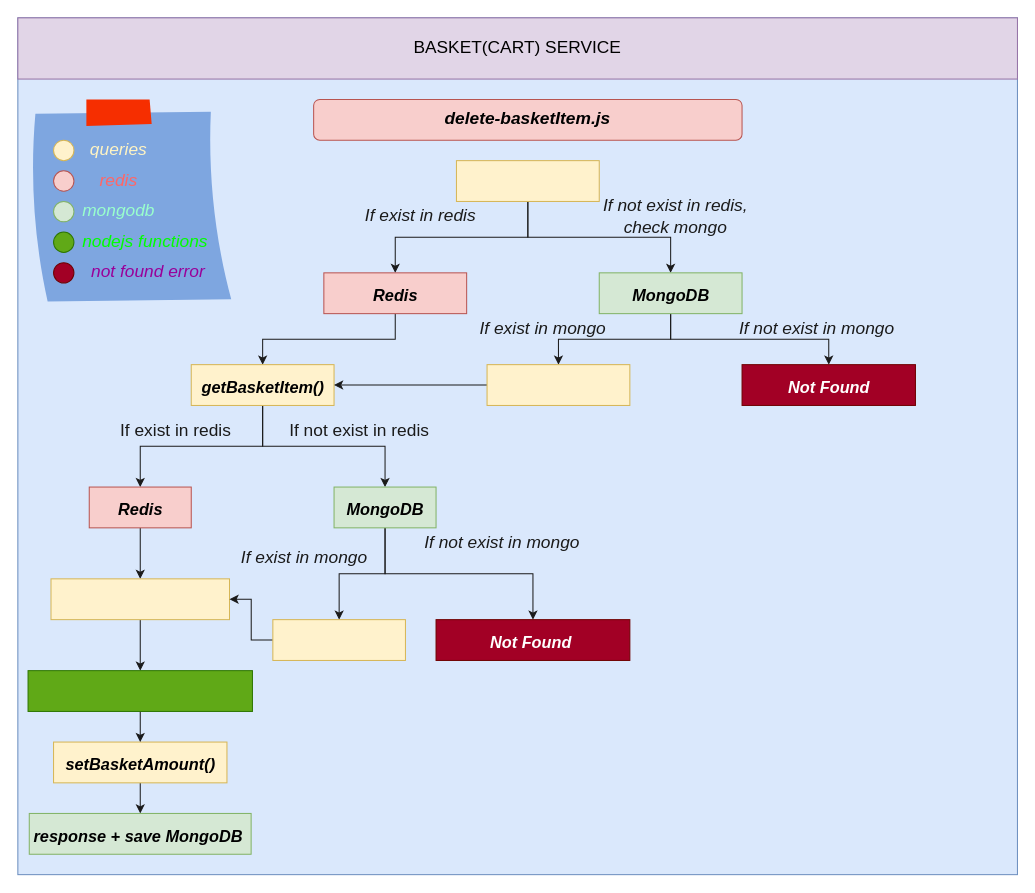
Image size: 1035x893. Some labels were removed from this diagram. Each missing label, with the centre of its shape:
"getBasket()" goes at point (527, 180).
"newBasketItem()" goes at point (338, 639).
"removeBasketItem()" goes at point (140, 599).
"setBasket()" goes at point (558, 384).
"update total basket amount" goes at point (139, 690).
